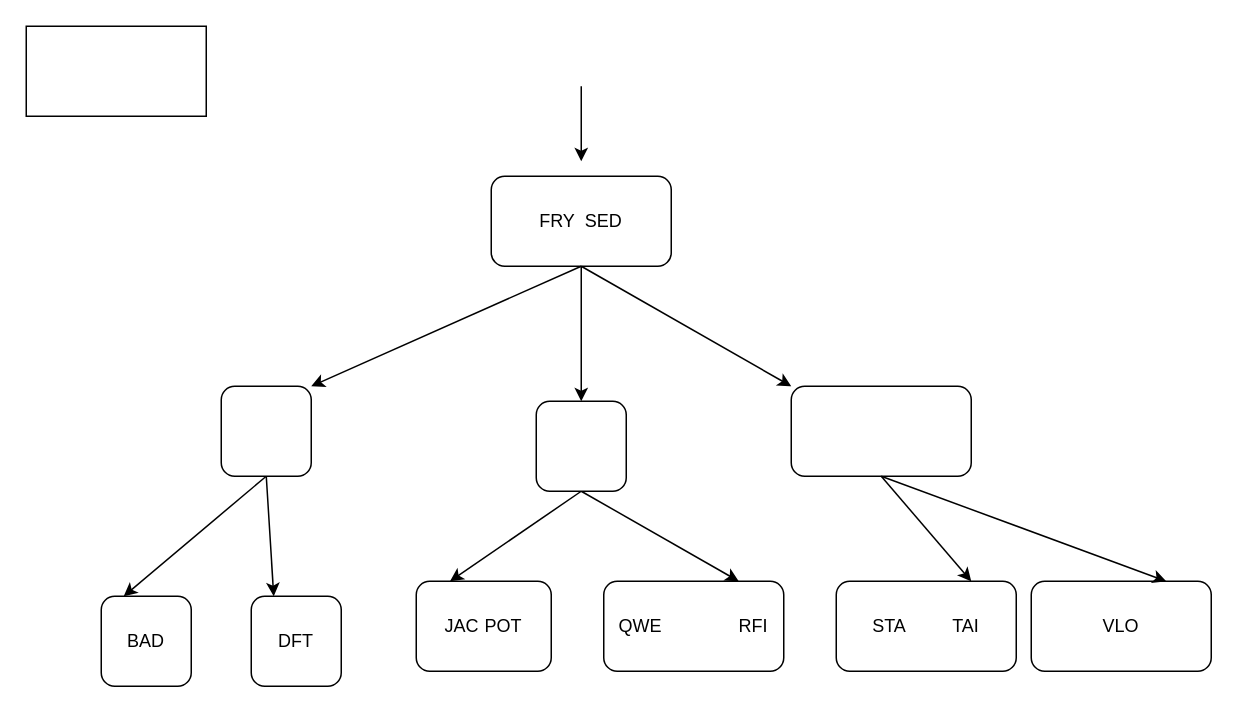
The diagram is 1238 pixels wide and 713 high, and some of its shapes have lost their labels. The box of each missing label's shape, as (x1, y1, x2, y2) in pixels:
CHE: (220, 385, 311, 476)
INSERIR POT: (25, 25, 206, 116)
PUC: (535, 400, 626, 491)
TOU: (790, 385, 971, 476)
